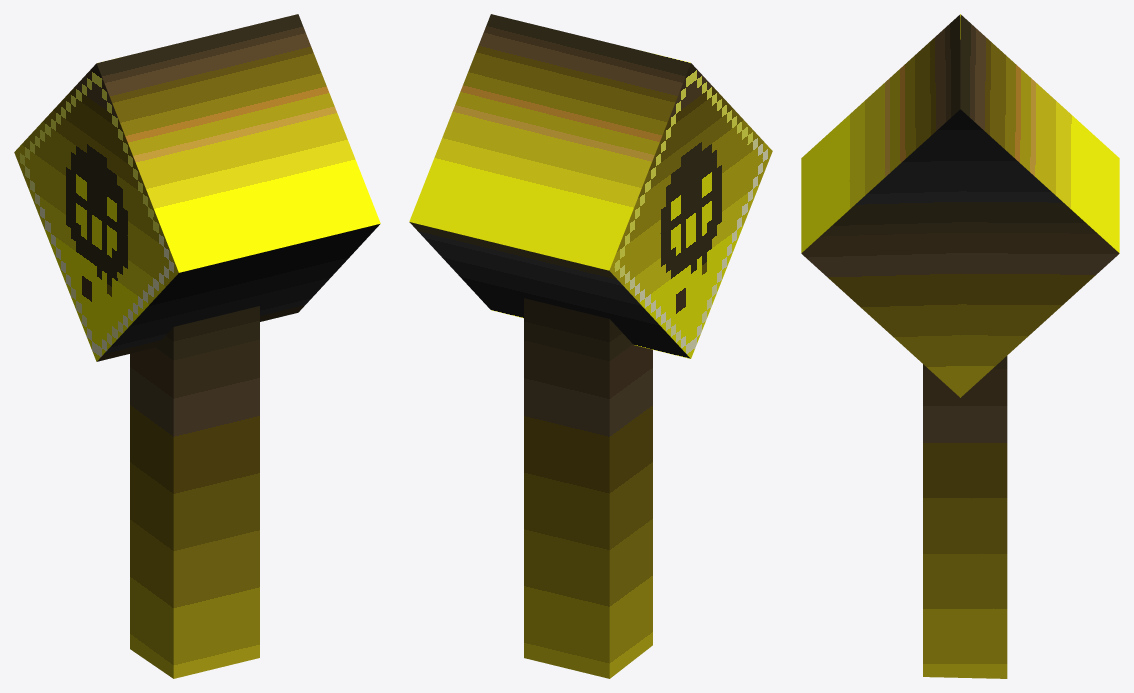
The model's file is sign.obj.
The picture shows the model from 3 angles, left to right: view 1: azimuth 30°, elevation 25°; view 2: azimuth 150°, elevation 25°; view 3: azimuth 270°, elevation 25°; orthographic projection. The views are drawn at different scales.
Visible parts, largest first — view 1: Cube; view 2: Cube; view 3: Cube.
Boxes of the visible parts, x1=… form: Cube: x1=14, y1=14, x2=380, y2=678; Cube: x1=409, y1=14, x2=772, y2=678; Cube: x1=801, y1=14, x2=1119, y2=678.
Size of the model in its own units: 2 by 5.85 by 2.83.
